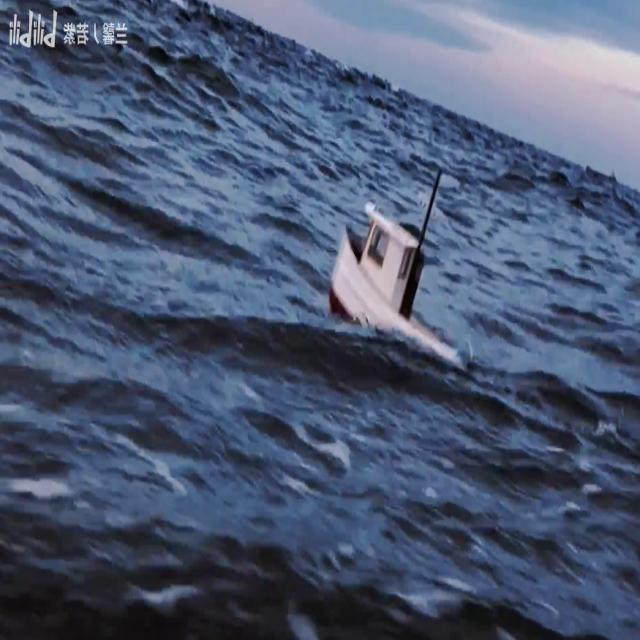houseboat: (336, 170, 471, 369)
